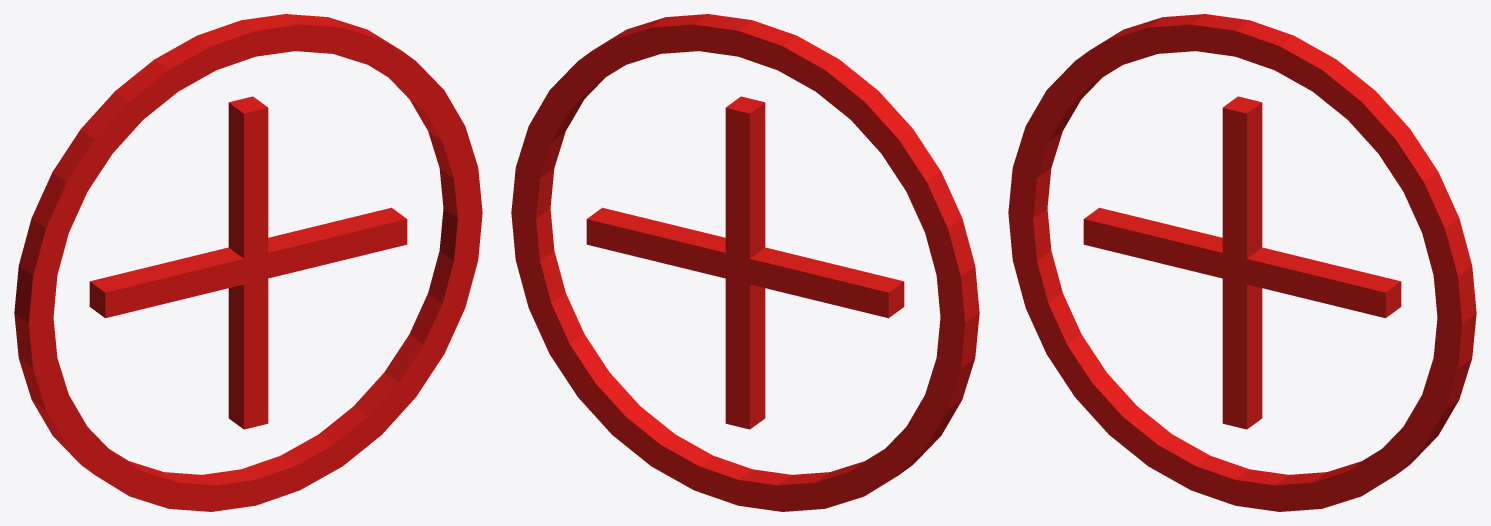
Rendered from CrossHair.gltf.
3 views of the same model, side by side, from view 1: azimuth 30°, elevation 25°; view 2: azimuth 150°, elevation 25°; view 3: azimuth 330°, elevation 25° (orthographic).
Visible parts, largest first — view 1: Cylinder, Cube, Cube.001; view 2: Cylinder, Cube.001, Cube; view 3: Cylinder, Cube, Cube.001.
Boxes of the visible parts, x1,y1,x2,y2 form: Cylinder: (14, 14, 482, 511); Cube: (228, 96, 268, 429); Cube.001: (89, 207, 407, 318); Cylinder: (511, 14, 979, 511); Cube.001: (586, 207, 904, 318); Cube: (725, 96, 765, 429); Cylinder: (1008, 14, 1476, 511); Cube: (1222, 96, 1262, 429); Cube.001: (1083, 207, 1401, 318).
Size of the model in its own units: 2 by 2 by 0.1183.
